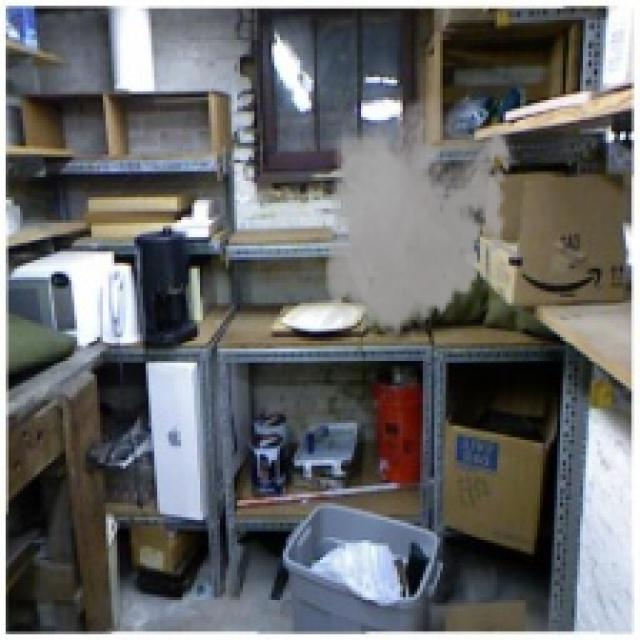smoke: (317, 85, 517, 348)
